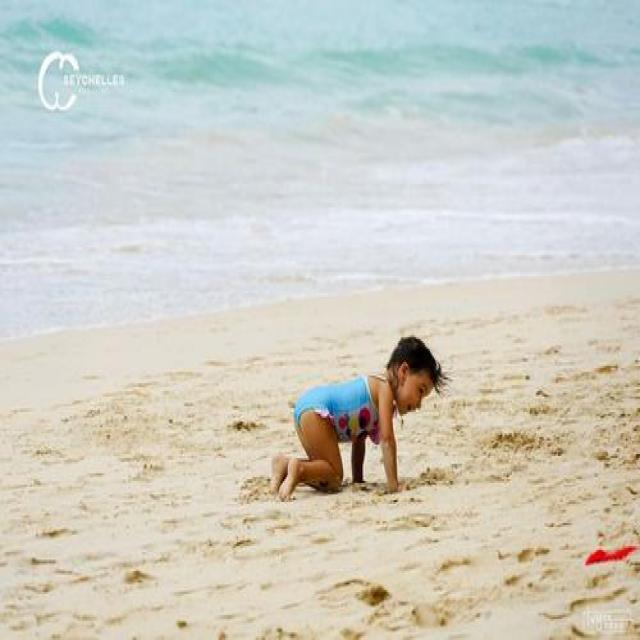down: (264, 330, 454, 504)
